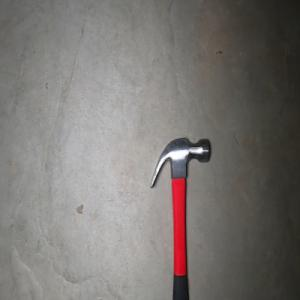Hammer: (148, 135, 210, 300)
